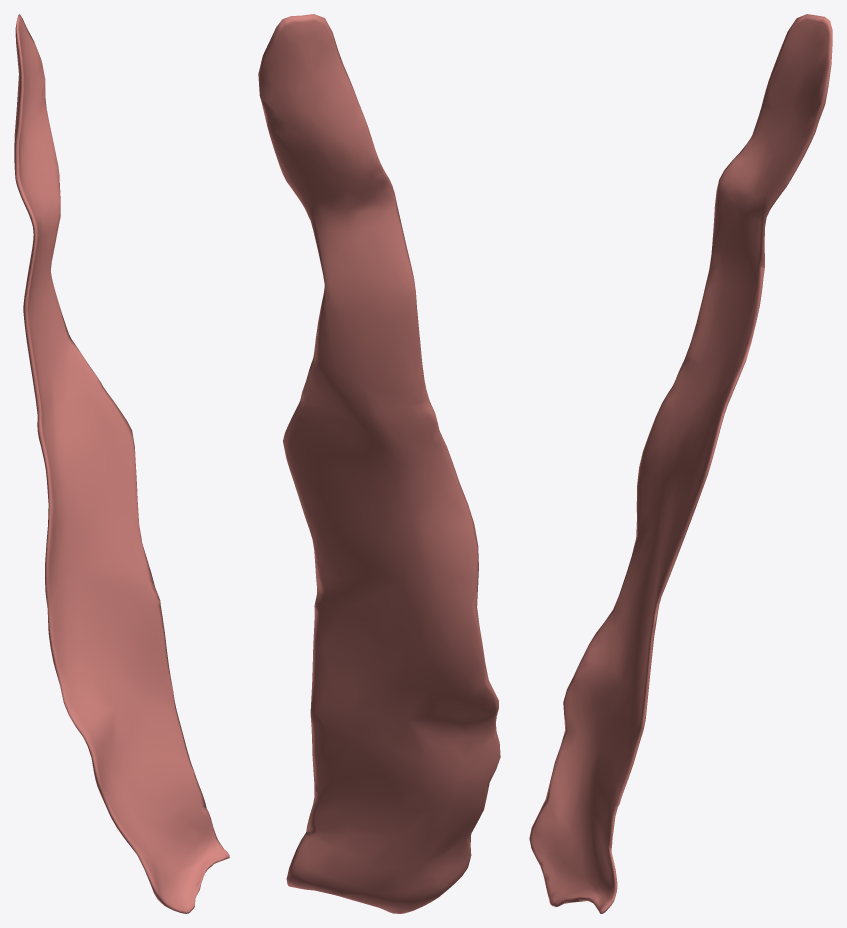
The picture shows the model from 3 angles, left to right: view 1: azimuth 30°, elevation 25°; view 2: azimuth 150°, elevation 25°; view 3: azimuth 270°, elevation 25°; orthographic projection. The views are drawn at different scales.
Parts seen in each view (by area): view 1: ZA_88484da39bdbbe3f; view 2: ZA_88484da39bdbbe3f; view 3: ZA_88484da39bdbbe3f.
Part boxes in pixels (left/top/right/bottom): ZA_88484da39bdbbe3f: left=14, top=14, right=229, bottom=913; ZA_88484da39bdbbe3f: left=258, top=14, right=500, bottom=913; ZA_88484da39bdbbe3f: left=529, top=14, right=832, bottom=913.
Bounding box in the file's own units: 0.019 × 0.0885 × 0.0281.
